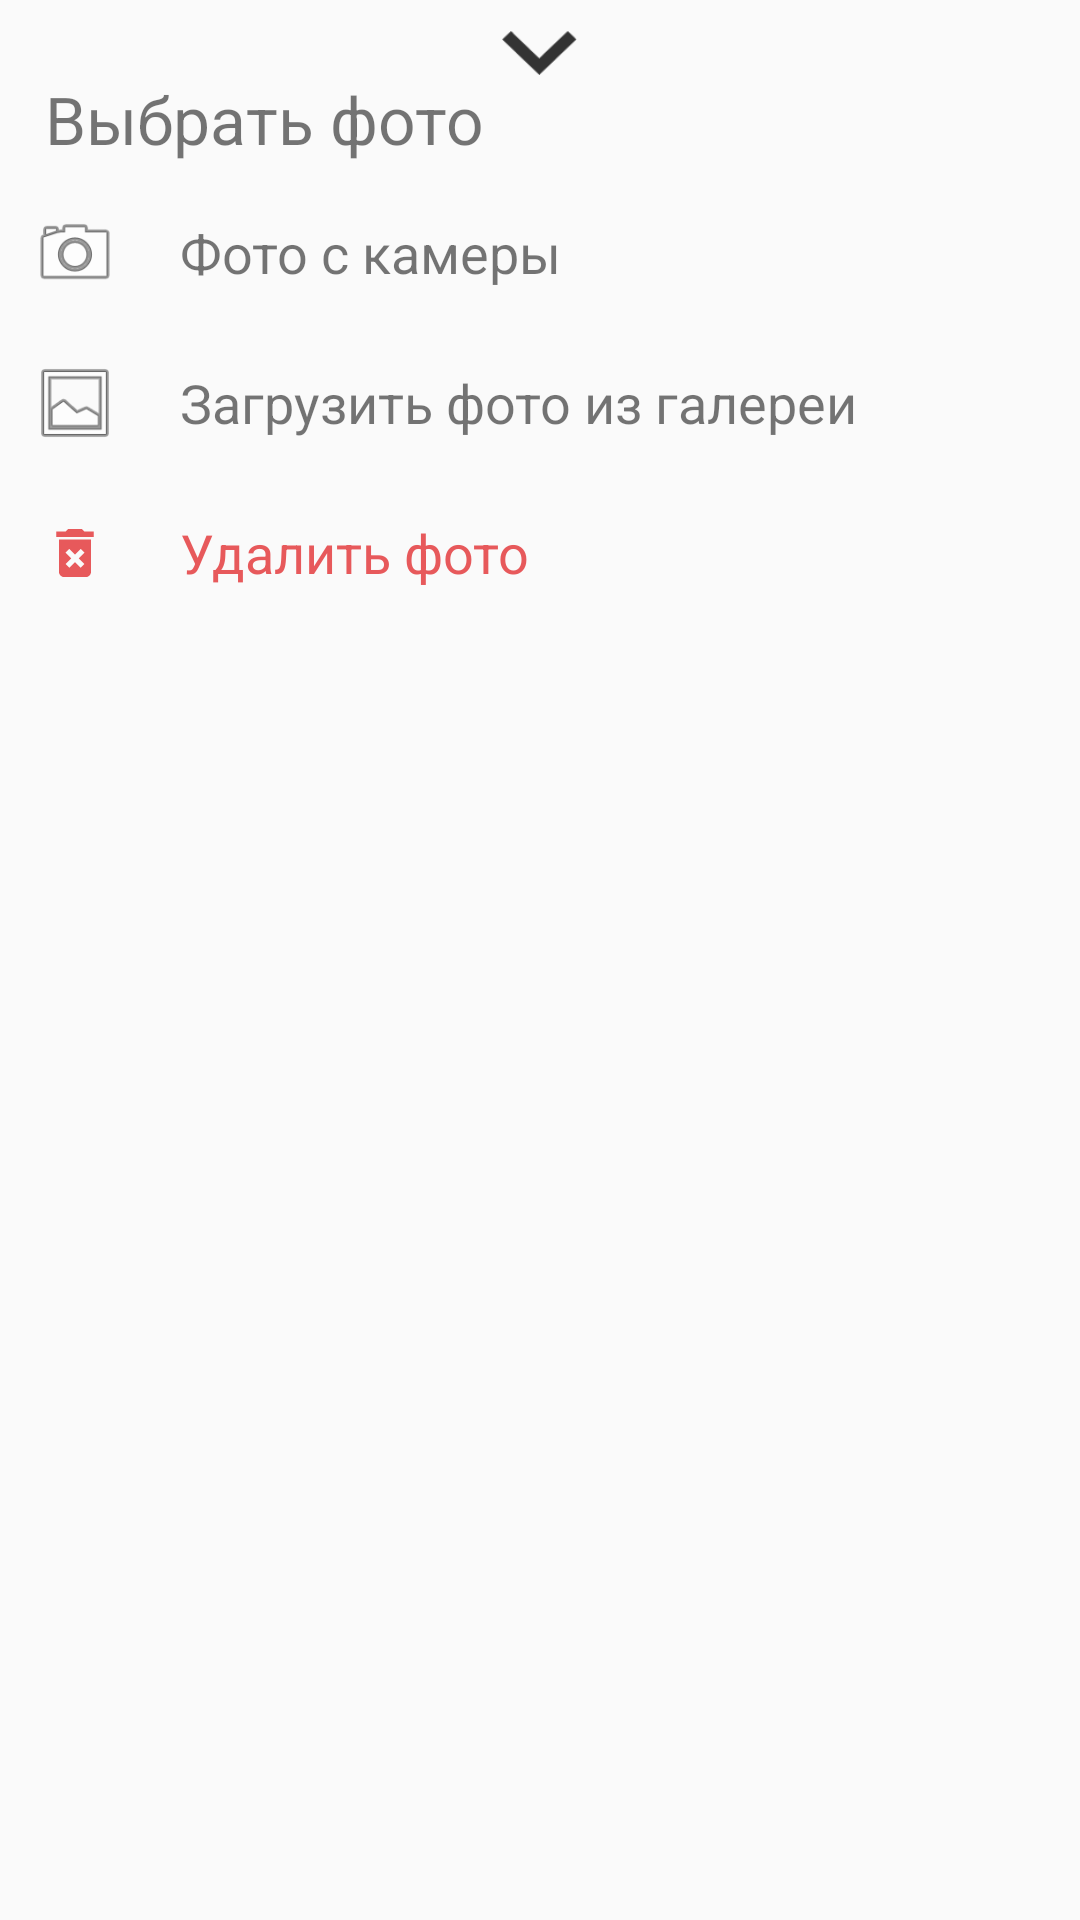

Where icons sit on this 1080x1920 app screen, as (x1, y1, x2, y2):
camera: (40, 224, 110, 279)
down arrow: (502, 31, 577, 75)
gallery: (41, 369, 109, 437)
remove photo: (56, 529, 94, 577)
